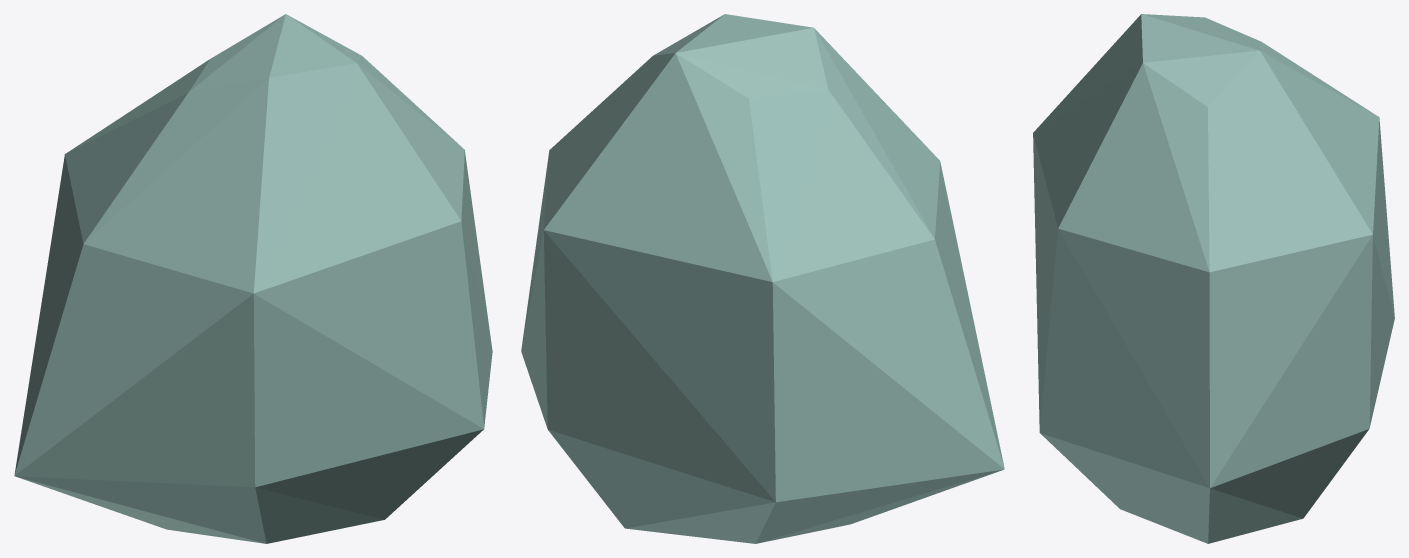
File: SM_MR_Crystal_Loose_01.fbx
3 views of the same model, side by side, from view 1: azimuth 30°, elevation 25°; view 2: azimuth 150°, elevation 25°; view 3: azimuth 270°, elevation 25° (orthographic). The views are drawn at different scales.
Visible parts, largest first — view 1: SM_MR_Crystal_Loose_01; view 2: SM_MR_Crystal_Loose_01; view 3: SM_MR_Crystal_Loose_01.
Part boxes in pixels (<box>): SM_MR_Crystal_Loose_01: <box>14,14,492,543</box>; SM_MR_Crystal_Loose_01: <box>521,14,1004,543</box>; SM_MR_Crystal_Loose_01: <box>1033,14,1394,543</box>.
Bounding box in the file's own units: 0.2838 × 0.1901 × 0.2683.
